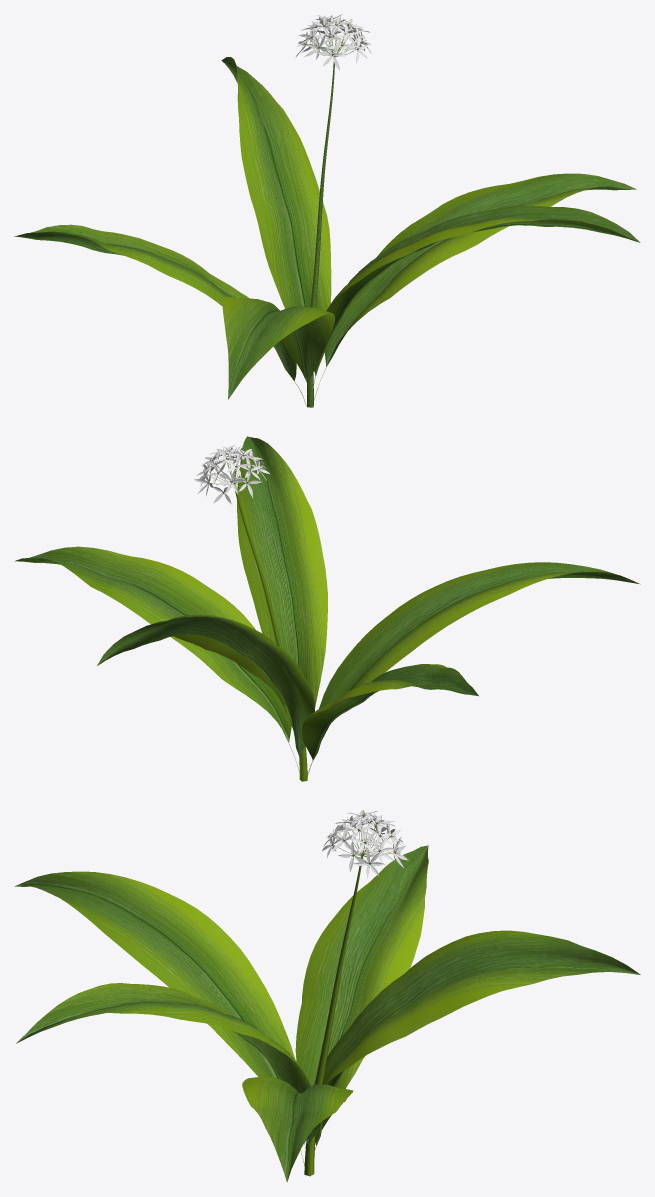
Rendered from florgrande.glb.
The picture shows the model from 3 angles, top to bottom: view 1: azimuth 30°, elevation 25°; view 2: azimuth 150°, elevation 25°; view 3: azimuth 270°, elevation 25°; orthographic projection. The views are drawn at different scales.
Parts seen in each view (by area): view 1: Green Leafs with Petals2.001, Green Leafs with Petals2; view 2: Green Leafs with Petals2.001, Green Leafs with Petals2; view 3: Green Leafs with Petals2.001, Green Leafs with Petals2.
Part boxes in pixels (x1,y1,x2,y2): Green Leafs with Petals2.001: (14, 14, 638, 407); Green Leafs with Petals2: (17, 15, 640, 407); Green Leafs with Petals2.001: (29, 436, 615, 781); Green Leafs with Petals2: (14, 436, 640, 781); Green Leafs with Petals2.001: (14, 810, 639, 1181); Green Leafs with Petals2: (16, 810, 640, 1182).
Size of the model in its own units: 0.3487 by 0.2142 by 0.3154.
Materials: 4 (2 with a texture image).
